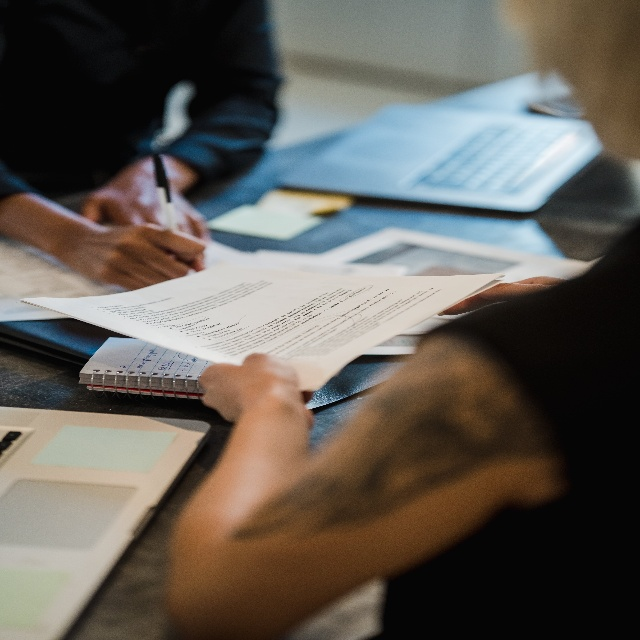Sin_guantes: (80, 167, 209, 272), (73, 223, 205, 290), (198, 353, 314, 429), (437, 274, 565, 316)
